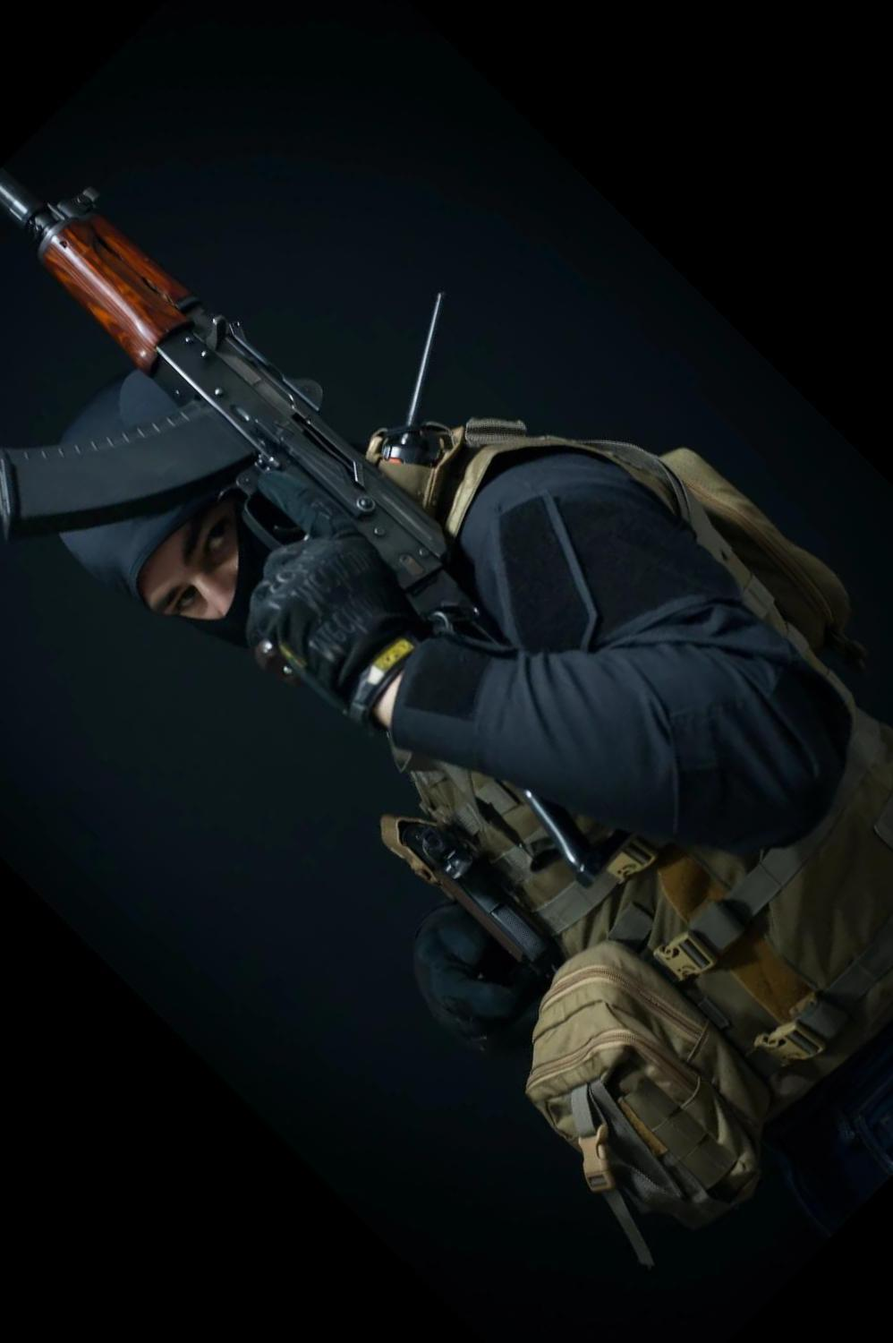larga: (0, 178, 646, 885)
